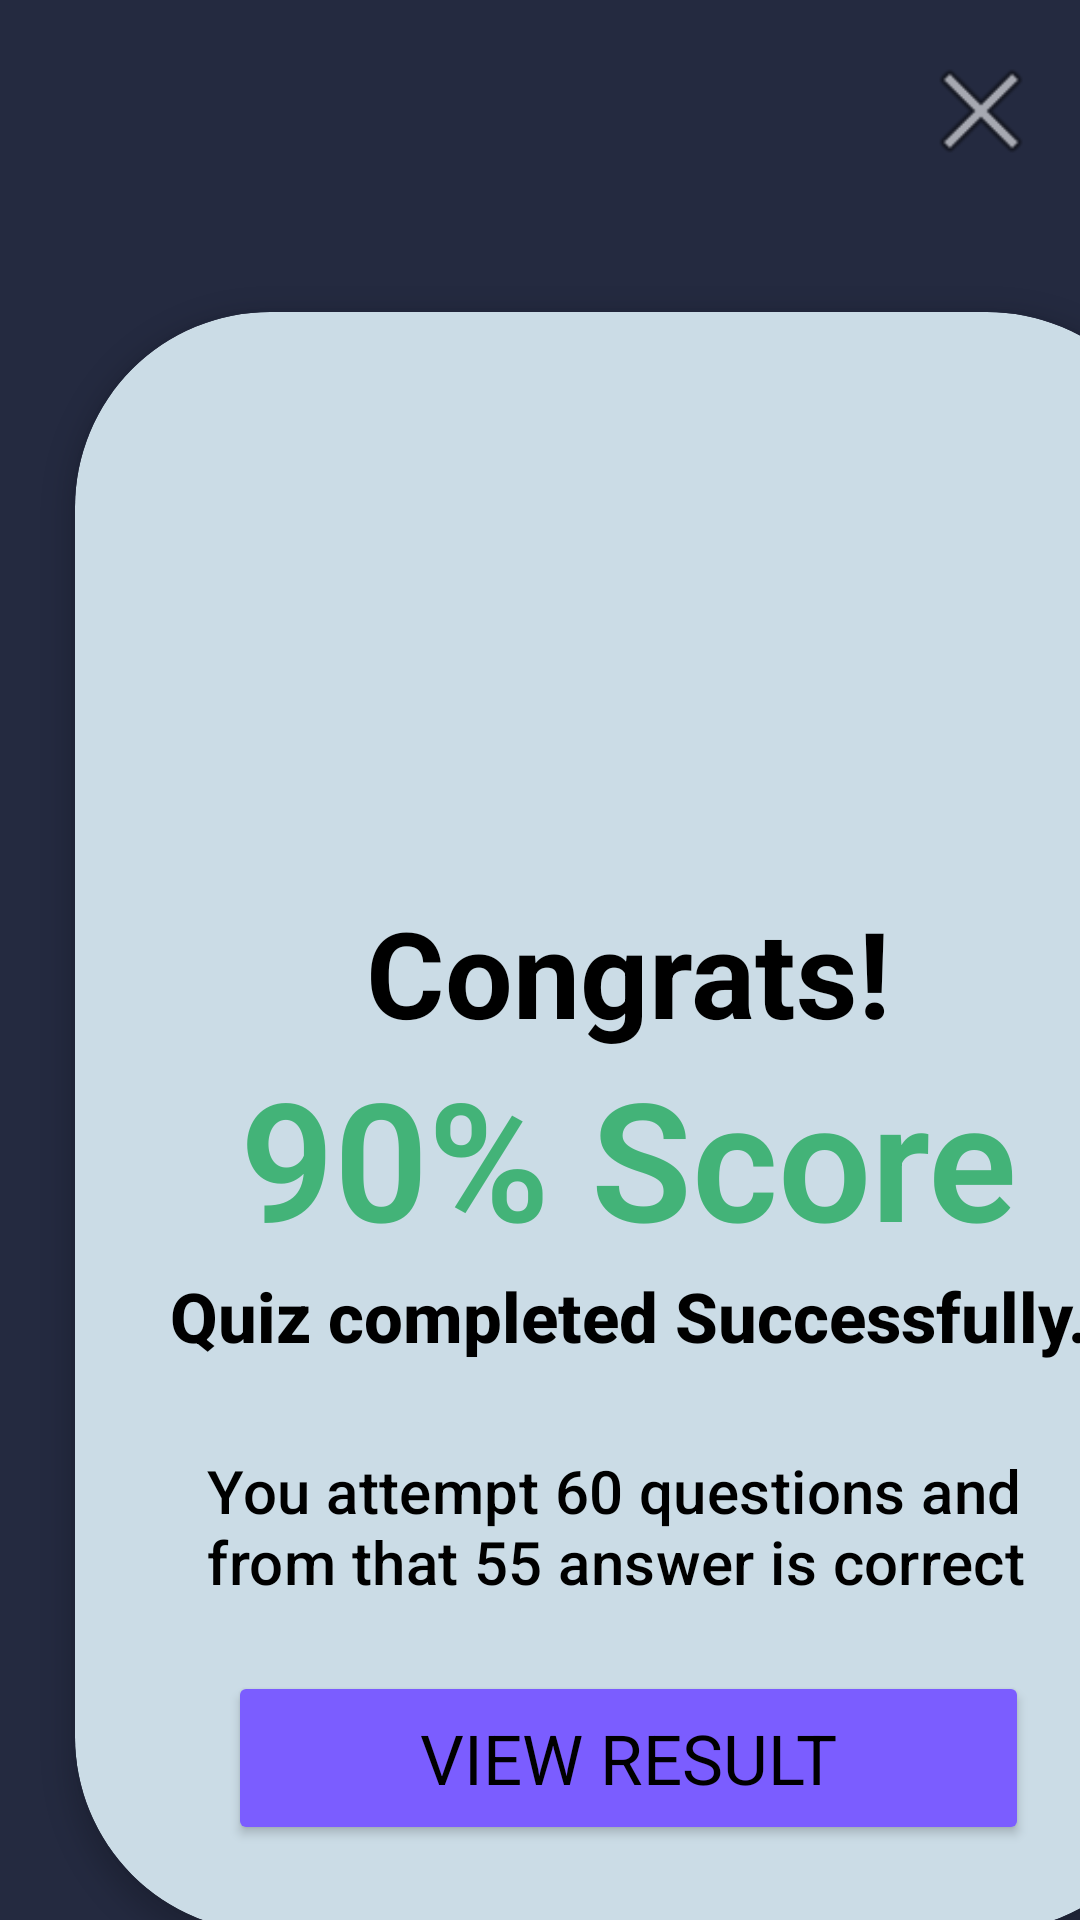

Locate icon controls on the screen. Image size 1080x1920, boxes as (x1, y1, x2, y2).
close clear cancel: (942, 72, 1020, 150)
